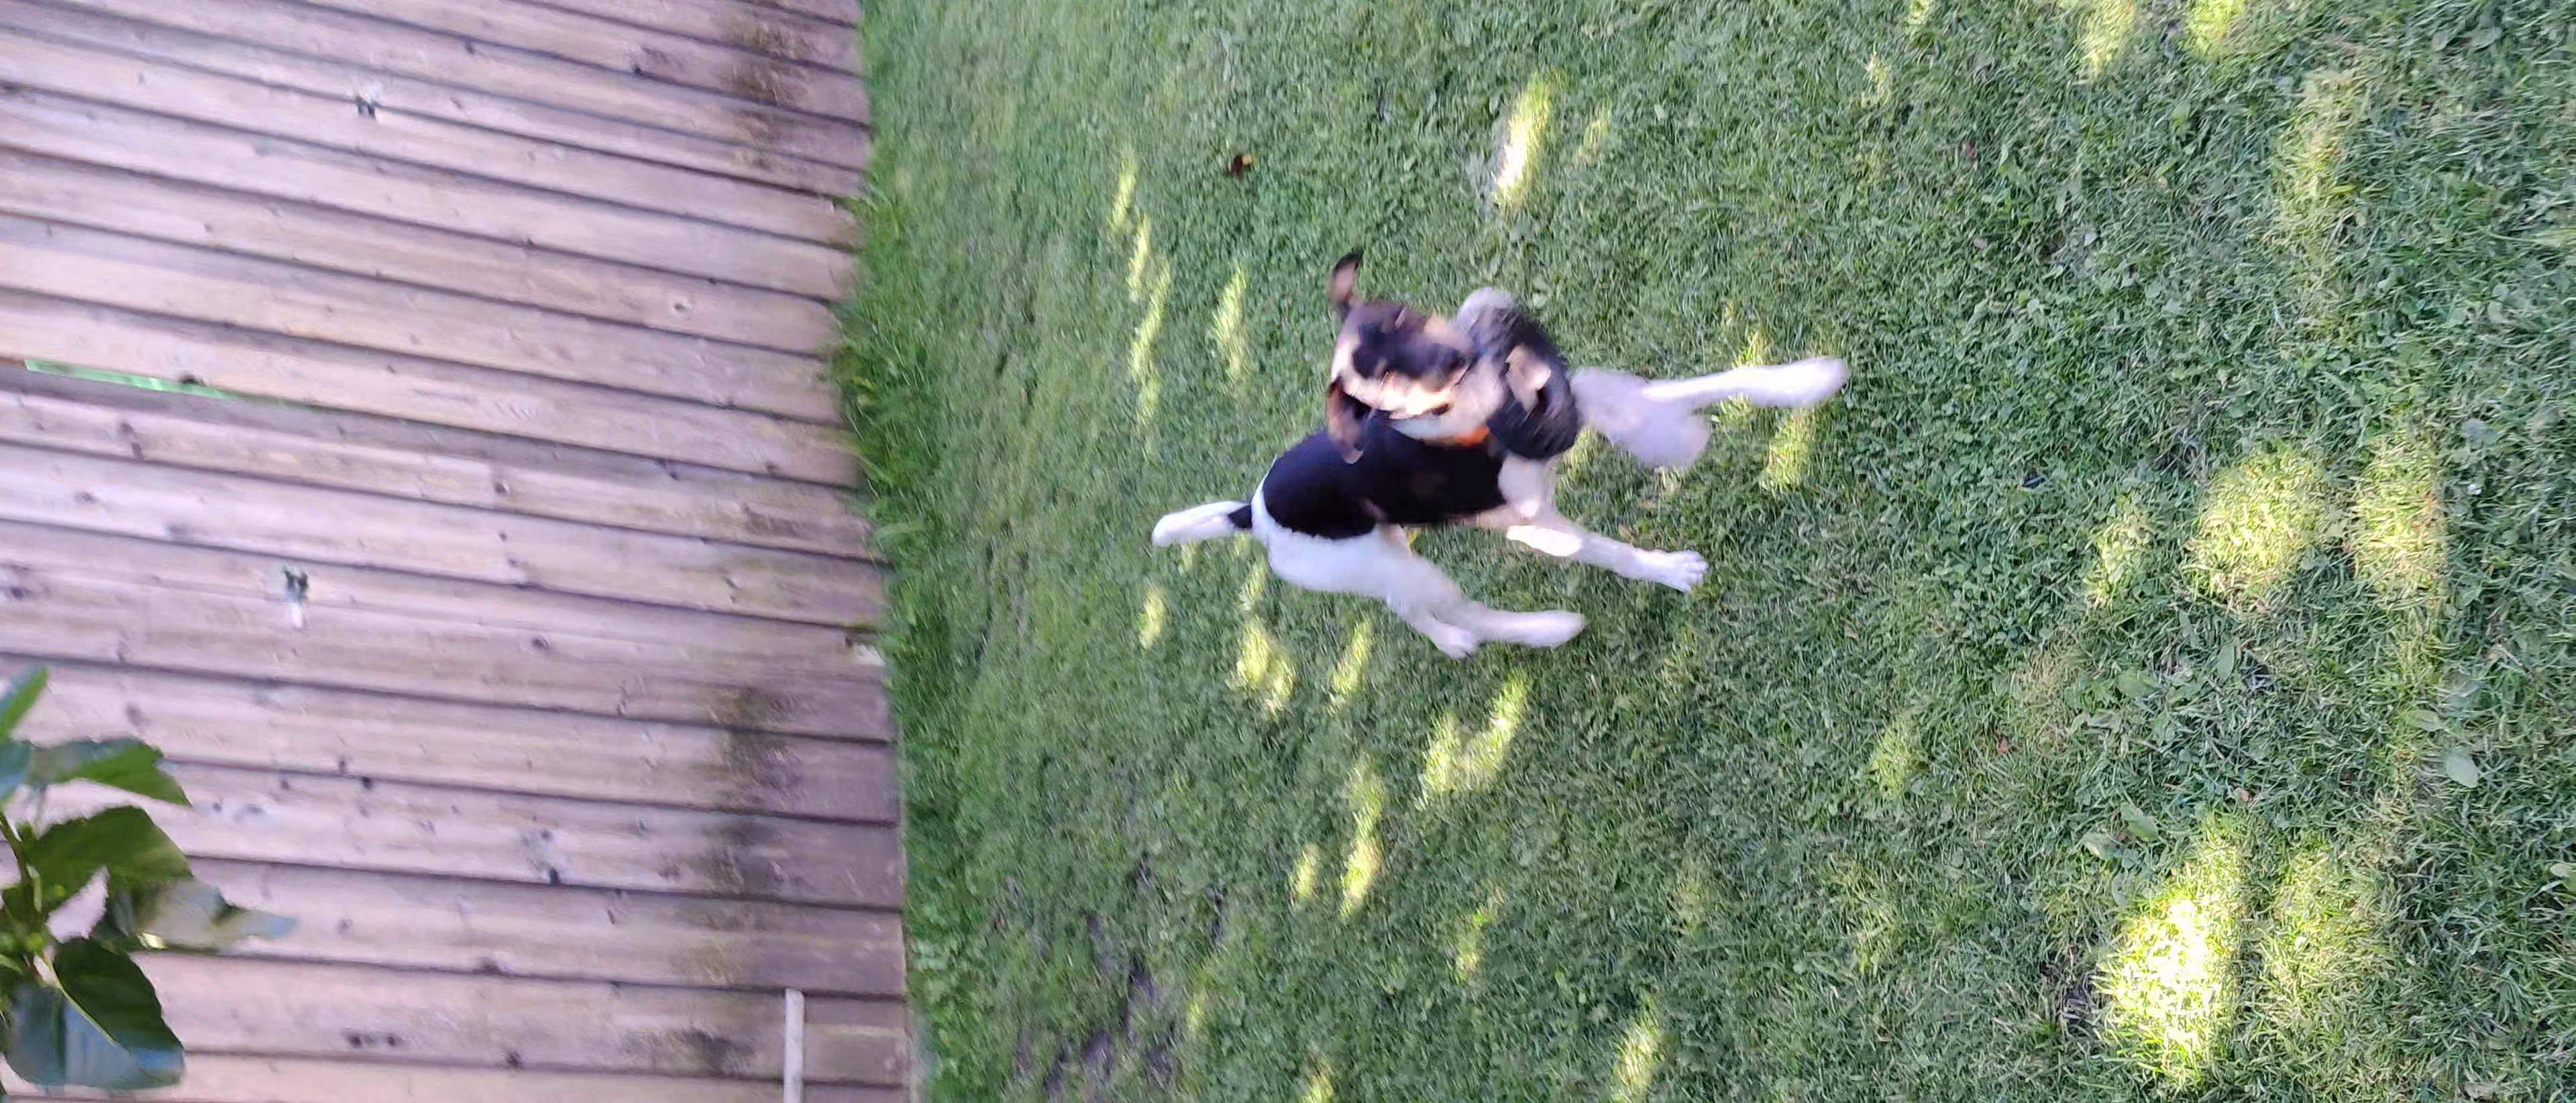Dog: (1142, 243, 1858, 659)
